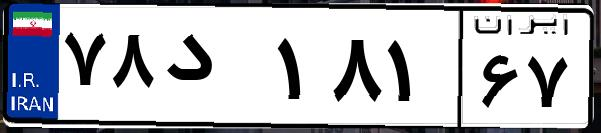1: (270, 28, 330, 110), (385, 28, 445, 110)
6: (475, 38, 525, 113)
7: (57, 26, 110, 100), (525, 38, 570, 115)
8: (330, 28, 385, 110), (110, 28, 158, 98)
د: (158, 20, 270, 120)
